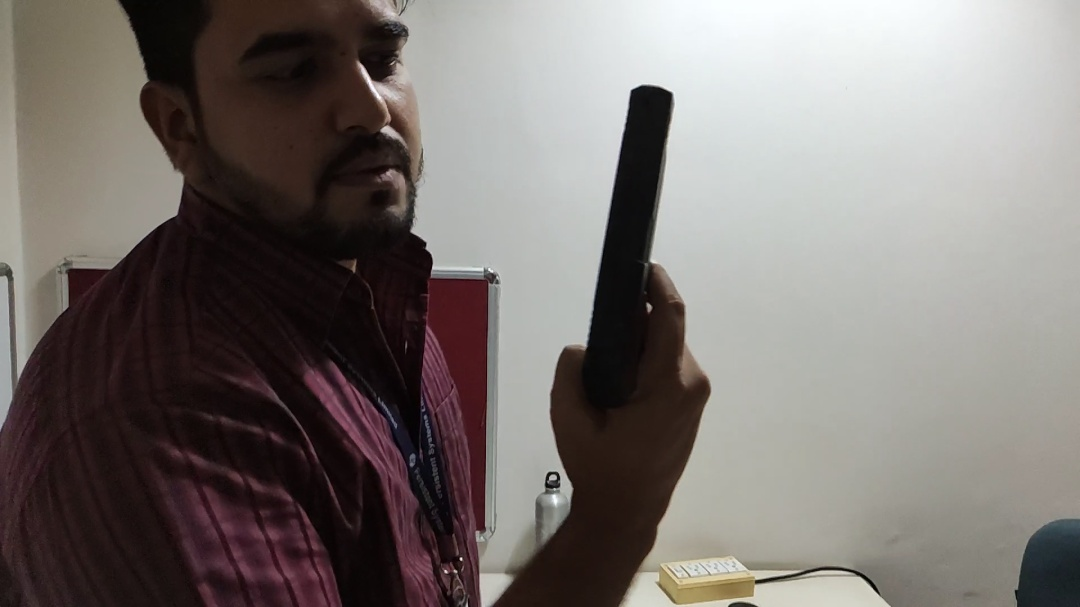gun: (567, 75, 698, 428)
